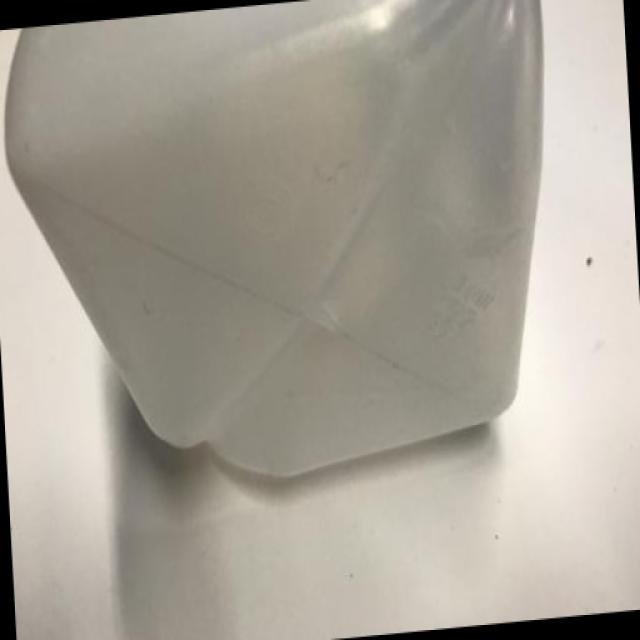plastico: (0, 16, 590, 512)
